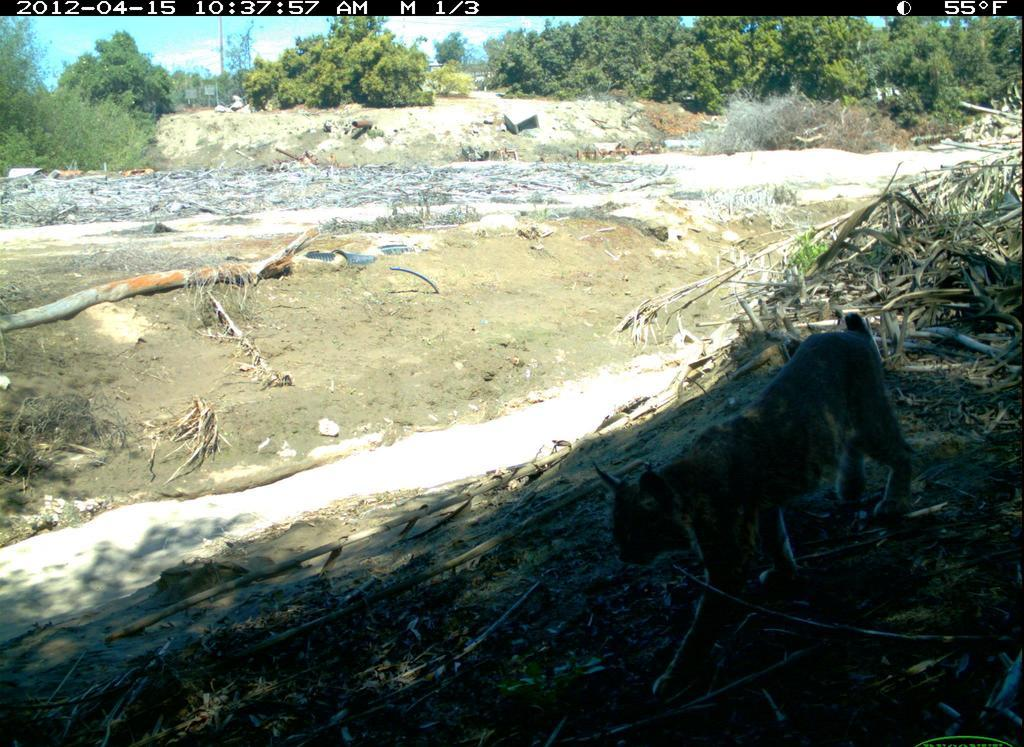bobcat: (585, 296, 929, 710)
